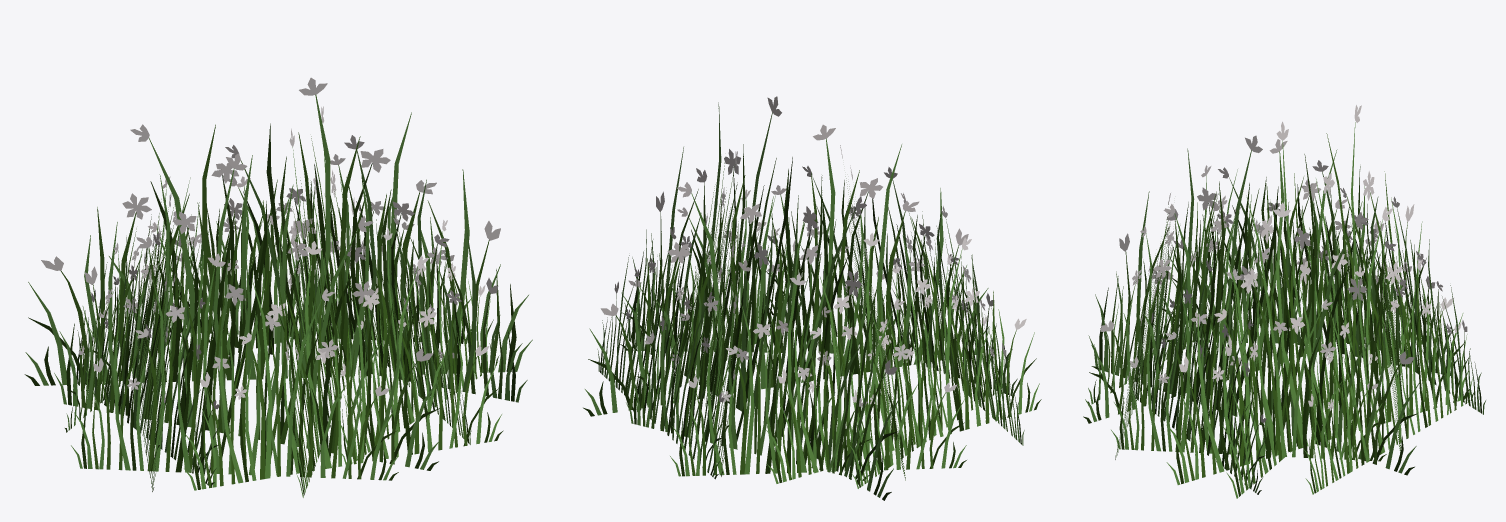
File: SM_Grass_With_Wlowers_003.fbx
3 renders of one model, left to right at view 1: azimuth 30°, elevation 25°; view 2: azimuth 150°, elevation 25°; view 3: azimuth 270°, elevation 25°, orthographic. The views are drawn at different scales.
Parts seen in each view (by area): view 1: SM_Grass_With_Wlowers_003; view 2: SM_Grass_With_Wlowers_003; view 3: SM_Grass_With_Wlowers_003.
Part boxes in pixels (x1,y1,x2,y2): SM_Grass_With_Wlowers_003: [24, 77, 532, 497]; SM_Grass_With_Wlowers_003: [583, 96, 1041, 500]; SM_Grass_With_Wlowers_003: [1083, 105, 1485, 498].
Size of the model in its own units: 94.55 by 64.08 by 80.52.
